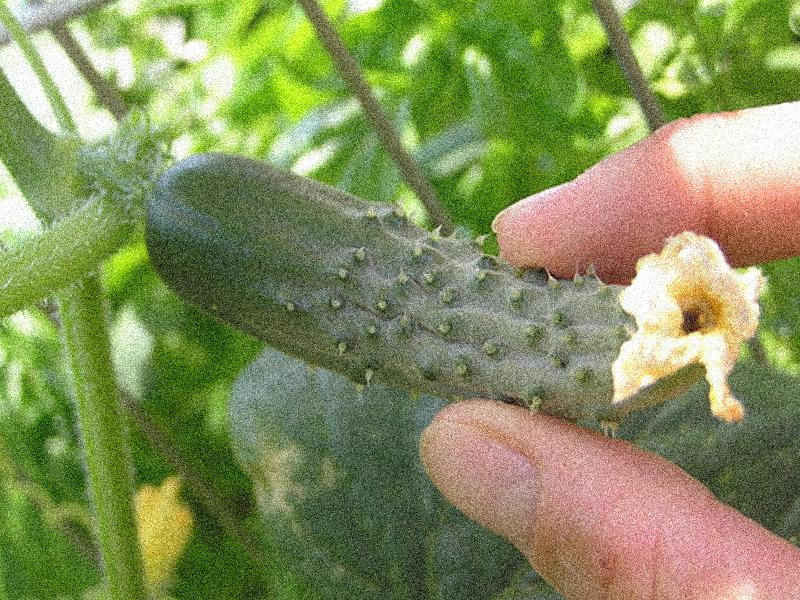Cucumber: (142, 155, 761, 422)
